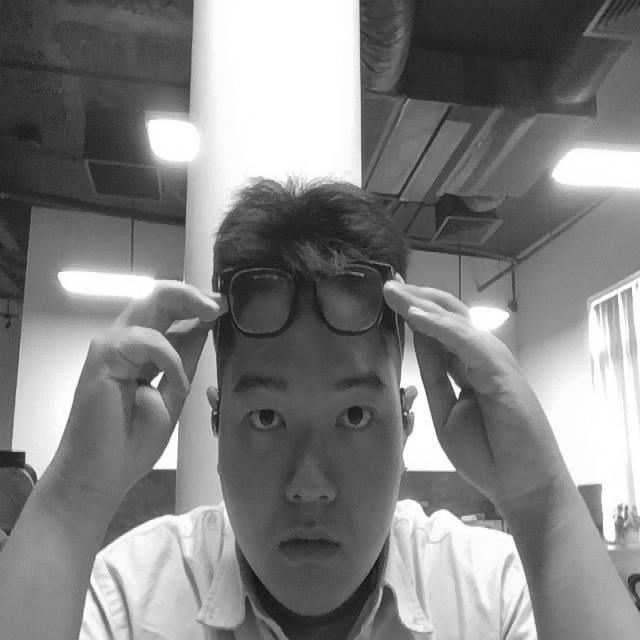real: (199, 144, 422, 627), (228, 391, 396, 452)
